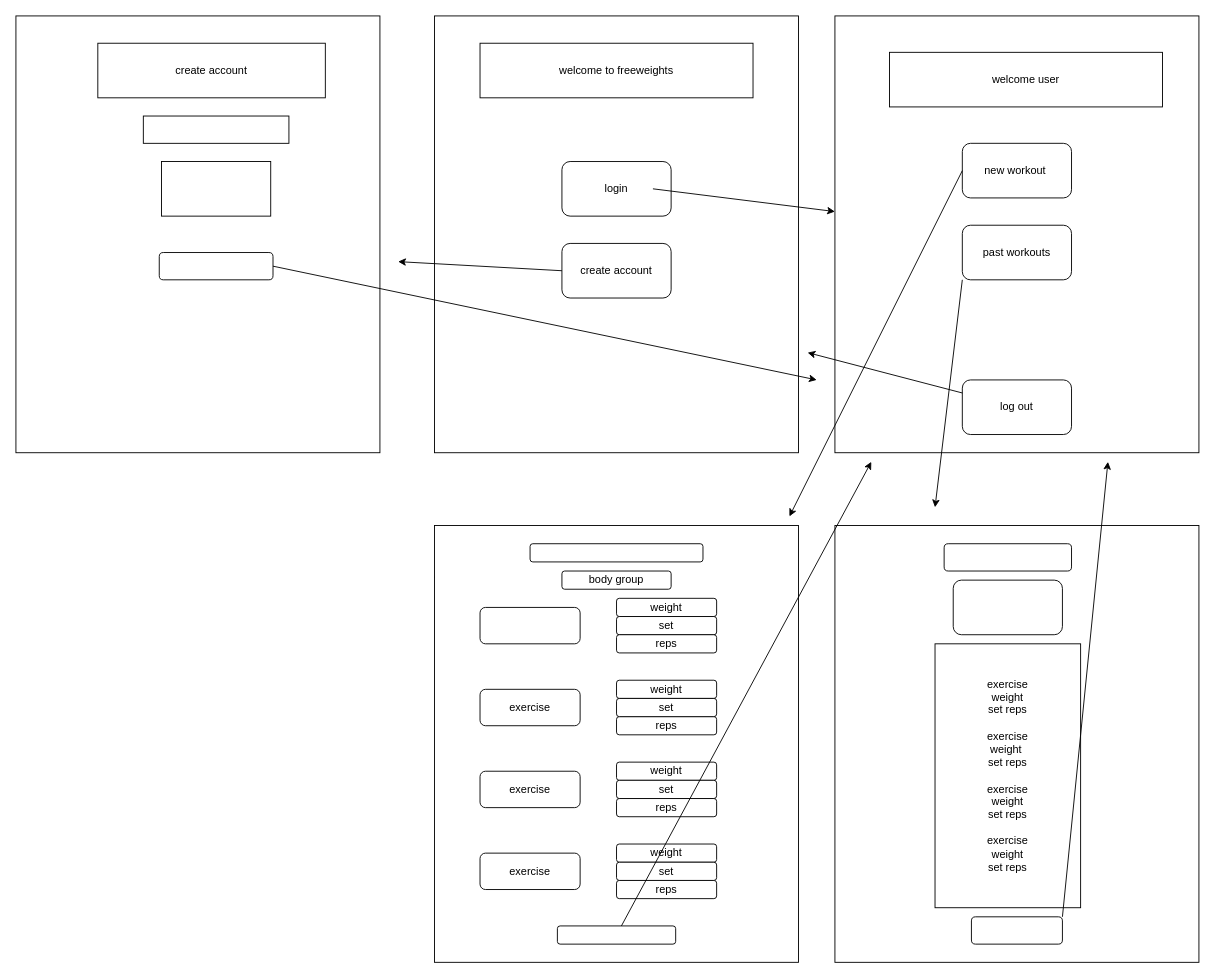
Some shapes in this 1215 by 978 pixel diagram are drawn without their labels. Here are the shapes that lost their labels. From the top down, the box of each, then its label:
(142, 115, 289, 143): user name
(161, 161, 271, 216): password
(158, 252, 273, 280): create
(529, 543, 703, 562): workout name
(943, 543, 1072, 571): history
(479, 607, 580, 644): exercise 1
(952, 579, 1062, 635): select workout
(556, 925, 676, 944): finsihed
(971, 916, 1062, 944): home
